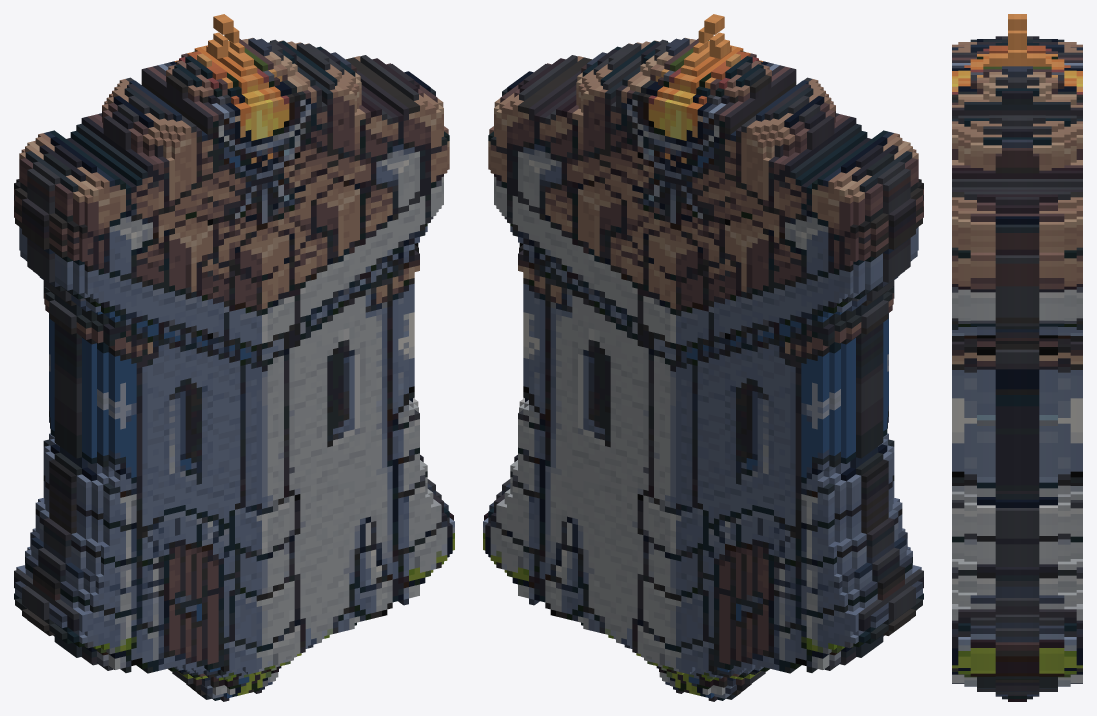
File: pixel_guard_tower.glb
The picture shows the model from 3 angles, left to right: view 1: azimuth 30°, elevation 25°; view 2: azimuth 150°, elevation 25°; view 3: azimuth 270°, elevation 25°; orthographic projection.
Parts seen in each view (by area): view 1: PixelTree; view 2: PixelTree; view 3: PixelTree.
Boxes of the visible parts, bbox=[...] form: PixelTree: bbox=[14, 14, 454, 701]; PixelTree: bbox=[483, 14, 923, 701]; PixelTree: bbox=[952, 14, 1082, 701].
Bounding box in the file's own units: 4.7 × 7.5 × 1.33.
